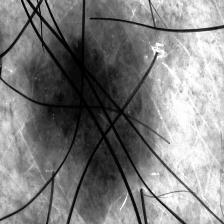Benign Marking or Mole: (33, 4, 152, 211)
